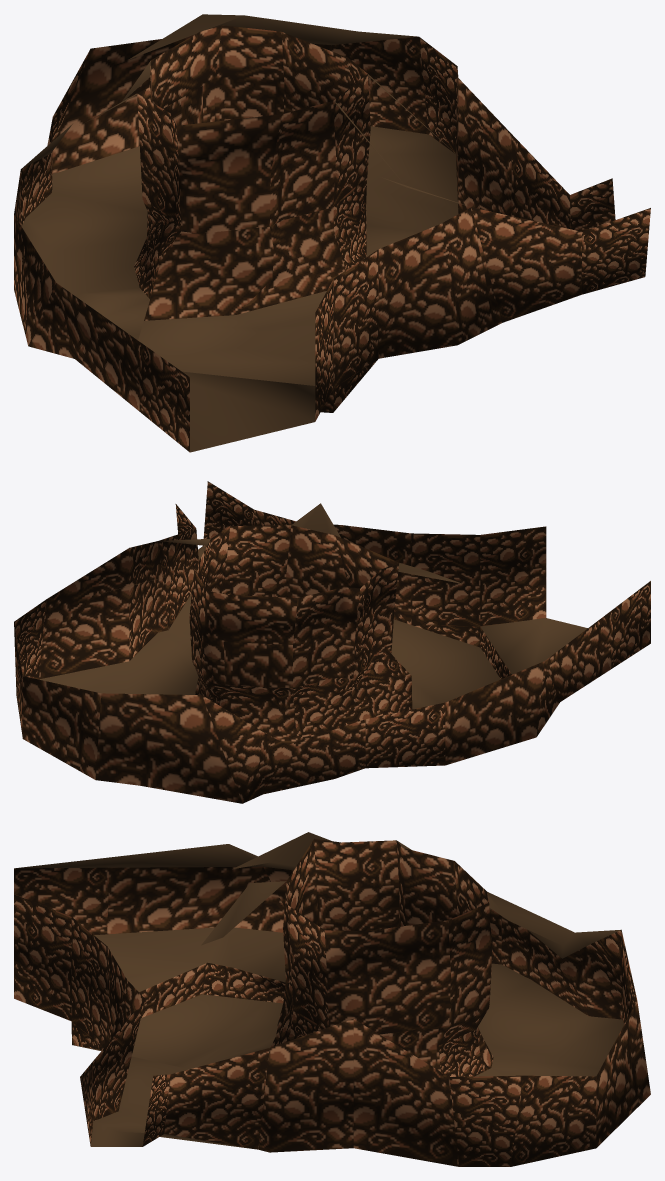
Rendered from Dona.fbx.
The picture shows the model from 3 angles, top to bottom: view 1: azimuth 30°, elevation 25°; view 2: azimuth 150°, elevation 25°; view 3: azimuth 270°, elevation 25°; orthographic projection. The views are drawn at different scales.
Visible parts, largest first — view 1: Cementerio; view 2: Cementerio; view 3: Cementerio.
Boxes of the visible parts, box(x1,y1,x2,y2) form: Cementerio: box(14, 14, 650, 452); Cementerio: box(14, 481, 650, 803); Cementerio: box(14, 832, 650, 1166).
Bounding box in the file's own units: 35504 × 40111 × 14922.
Materials: 2 (1 with a texture image).
